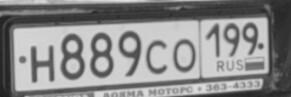license-plate: (11, 18, 271, 86)
